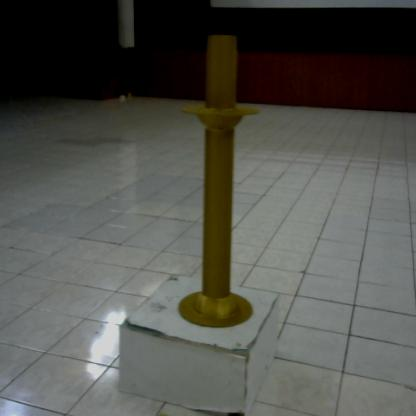pole: (176, 27, 256, 331)
